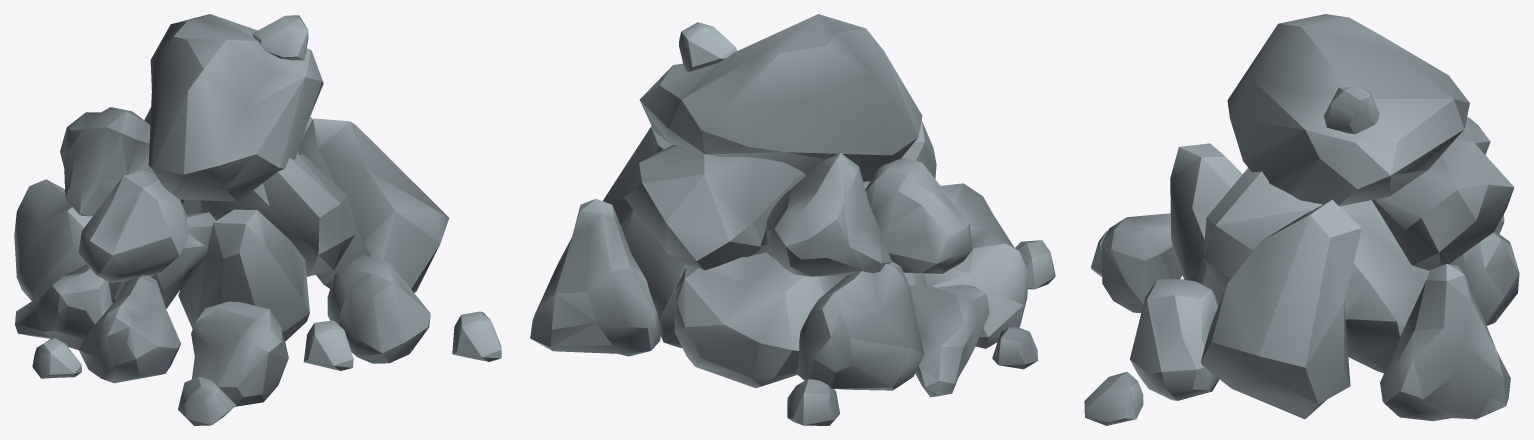
Rendered from Stone_Chunks_Large.glb.
3 renders of one model, left to right at view 1: azimuth 30°, elevation 25°; view 2: azimuth 150°, elevation 25°; view 3: azimuth 270°, elevation 25°, orthographic. The views are drawn at different scales.
Parts seen in each view (by area): view 1: Stone_Chunks_Large; view 2: Stone_Chunks_Large; view 3: Stone_Chunks_Large.
Boxes of the visible parts, x1,y1,x2,y2 form: Stone_Chunks_Large: [14, 14, 501, 425]; Stone_Chunks_Large: [530, 14, 1055, 425]; Stone_Chunks_Large: [1084, 14, 1519, 425].
Bounding box in the file's own units: 1.5 × 1.08 × 1.35.
1 material, 1 textured.
